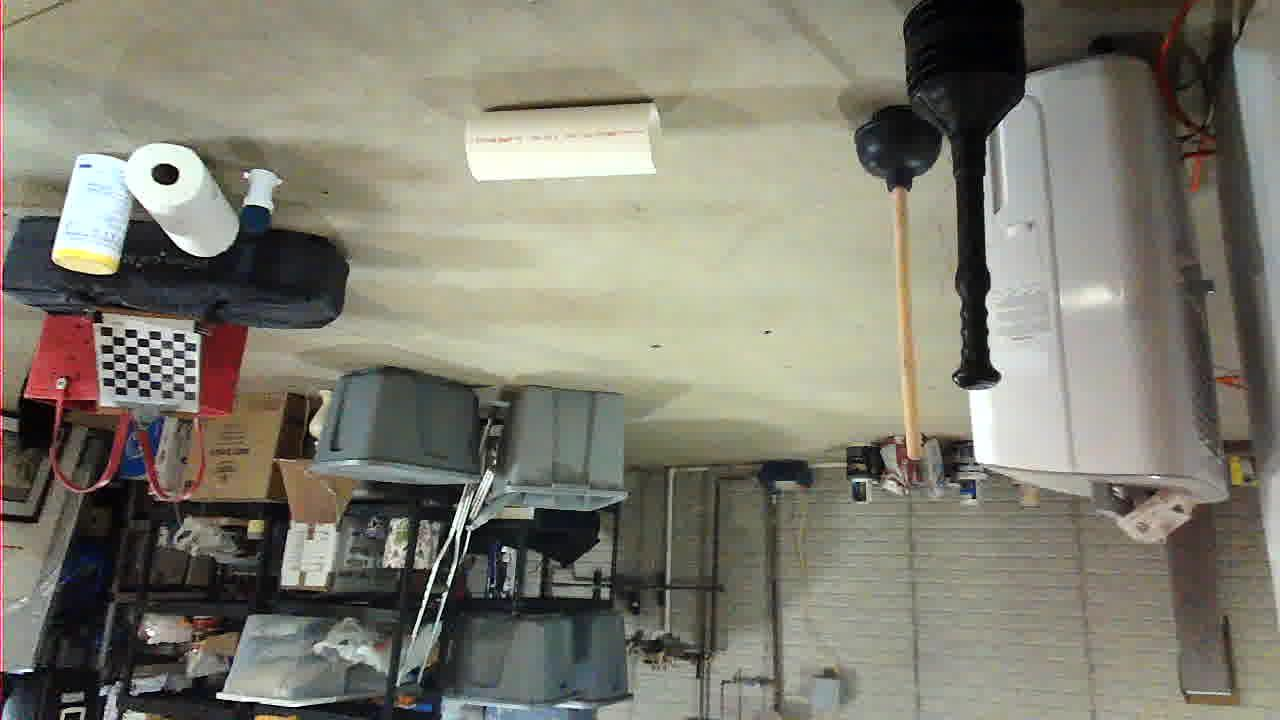coral: (616, 537, 816, 619)
